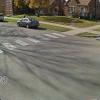Crosswalk: (2, 37, 64, 45)
